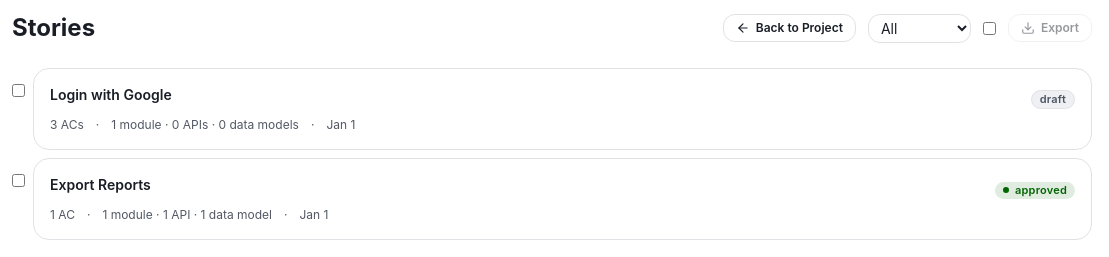
Test: StoriesPage (list) › changing the status filter clears the selection
Click the checkbox named "Select story:" at (18, 90), box left=12, top=84, right=25, bottom=97
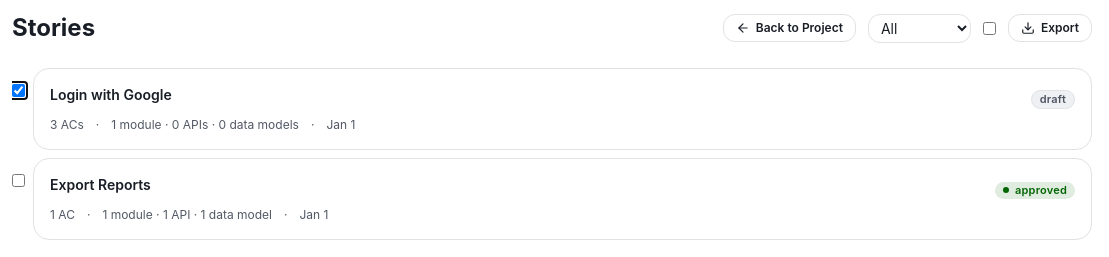
Check: the button "Export" is enabled, box left=1008, top=14, right=1092, bottom=42
Select "Approved" in the dropdown named "Filter stories by status" at (919, 28), box left=868, top=14, right=971, bottom=42
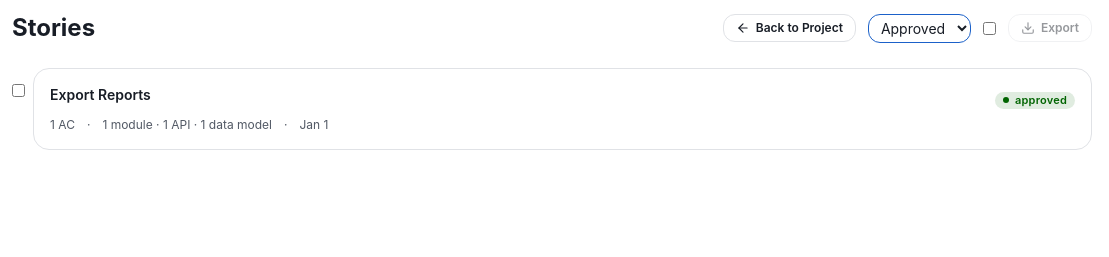
Check: the button "Export" is disabled, box left=1008, top=14, right=1092, bottom=42
